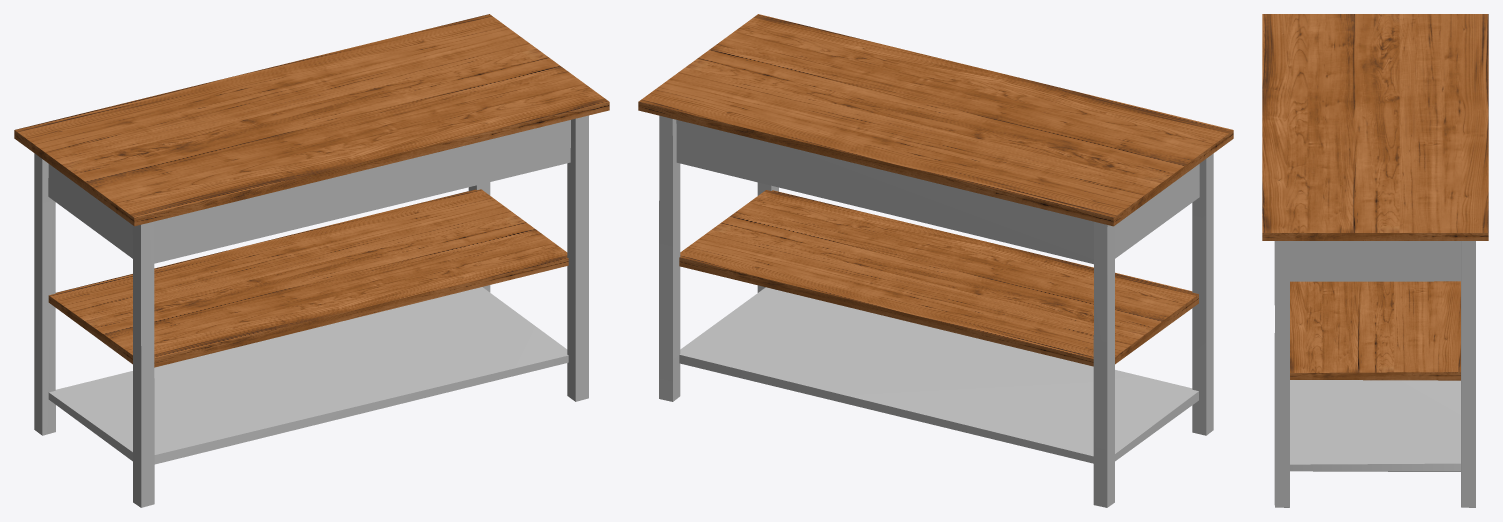
Rendered from Sideboard.FBX.
3 renders of one model, left to right at view 1: azimuth 30°, elevation 25°; view 2: azimuth 150°, elevation 25°; view 3: azimuth 270°, elevation 25°, orthographic. The views are drawn at different scales.
Visible parts, largest first — view 1: sideboard; view 2: sideboard; view 3: sideboard.
Boxes of the visible parts, x1,y1,x2,y2 form: sideboard: [14, 14, 609, 507]; sideboard: [638, 14, 1233, 507]; sideboard: [1262, 14, 1488, 507].
Size of the model in its own units: 135 by 81.28 by 59.25.
